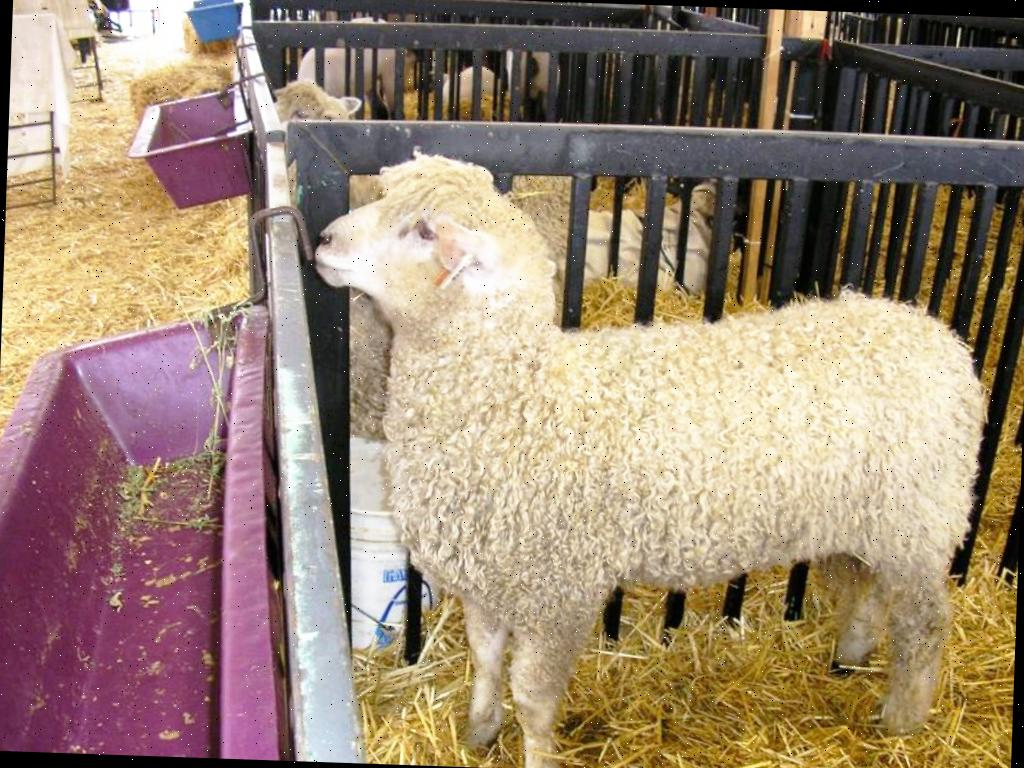Sheep: (295, 145, 984, 768)
